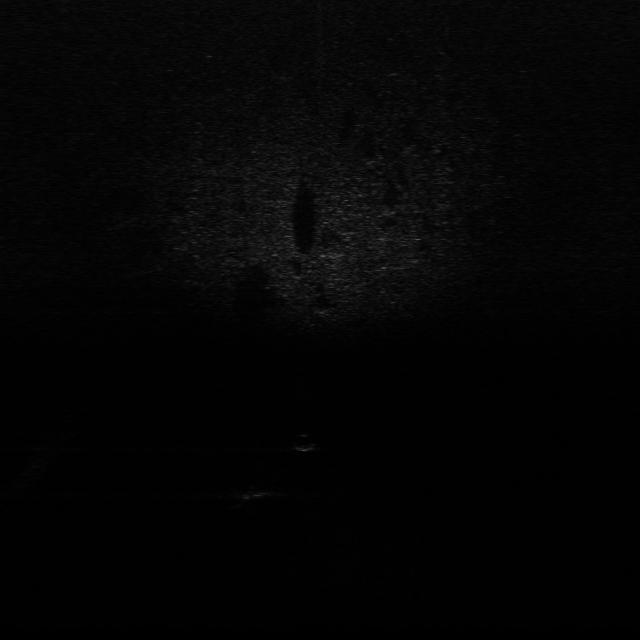ball: (296, 430, 322, 453)
square cage: (228, 486, 283, 502)
